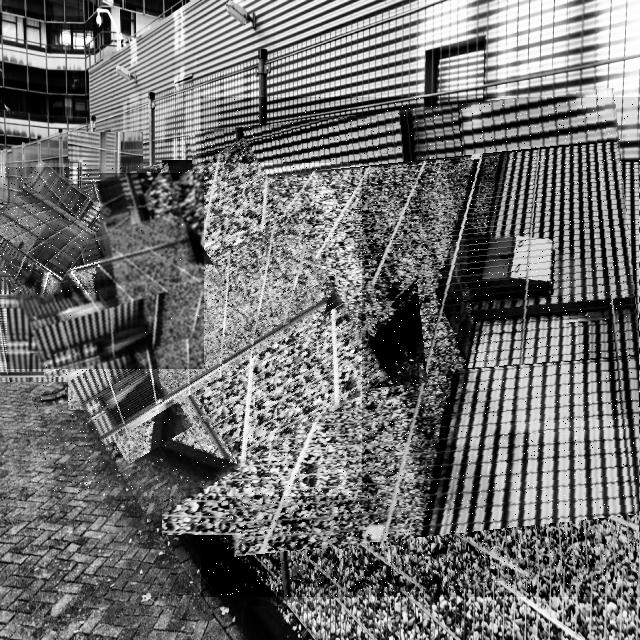fences: (201, 97, 640, 597), (31, 163, 362, 496), (7, 173, 204, 369), (0, 167, 100, 294)
